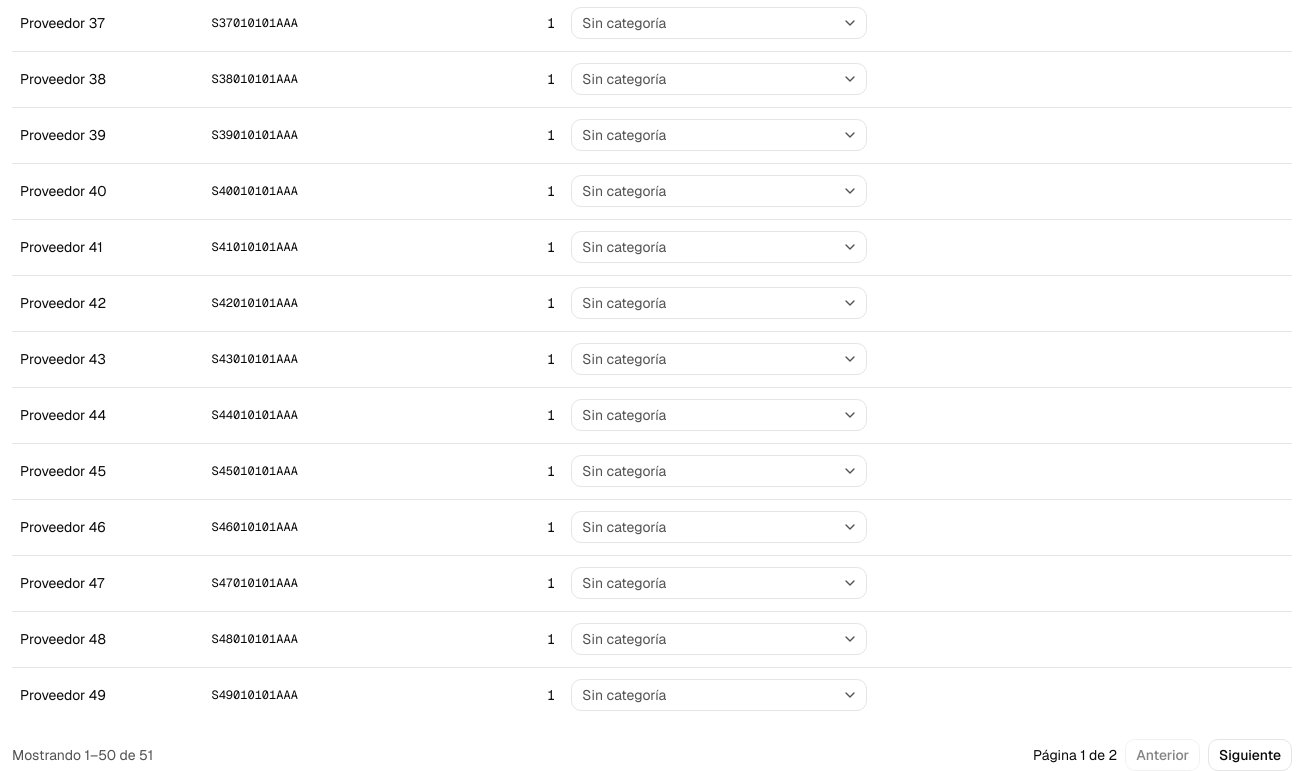
Test case: SupplierCategoryTable pagination (E2 overflow, zero-one-many) › shows 50 of 51 rows with the footer and moves between pages
This screenshot has width=1304, height=771.
(page scrolled)
Check: the text "Mostrando 1–50 de 51" is shown, box x1=12 y1=745 x2=153 y2=765
Check: the text "Página 1 de 2" is shown, box x1=1033 y1=745 x2=1117 y2=765
Click the button "Siguiente" at point(1250, 755), box x1=1208 y1=739 x2=1292 y2=770
(page scrolled)
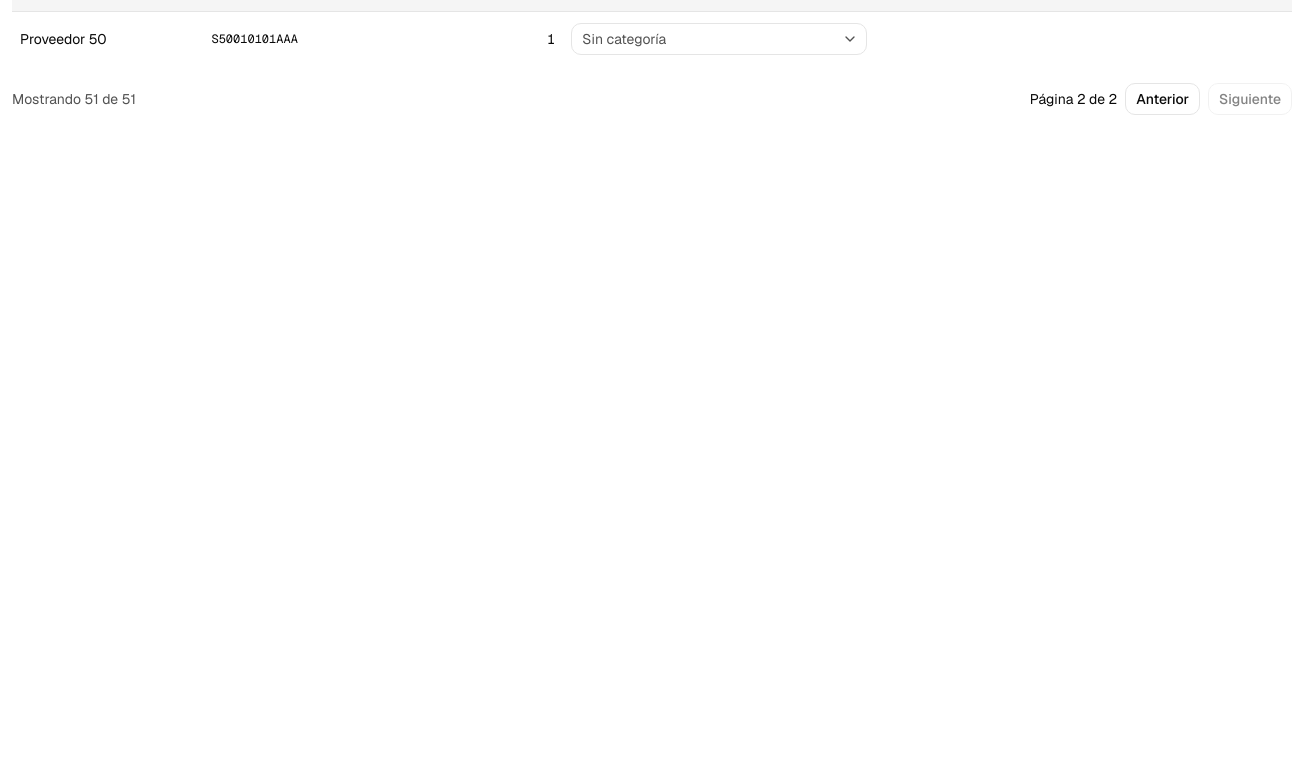
Check: the text "Mostrando 51 de 51" is shown, box x1=12 y1=89 x2=136 y2=109
Check: the text "Página 2 de 2" is shown, box x1=1030 y1=89 x2=1117 y2=109
